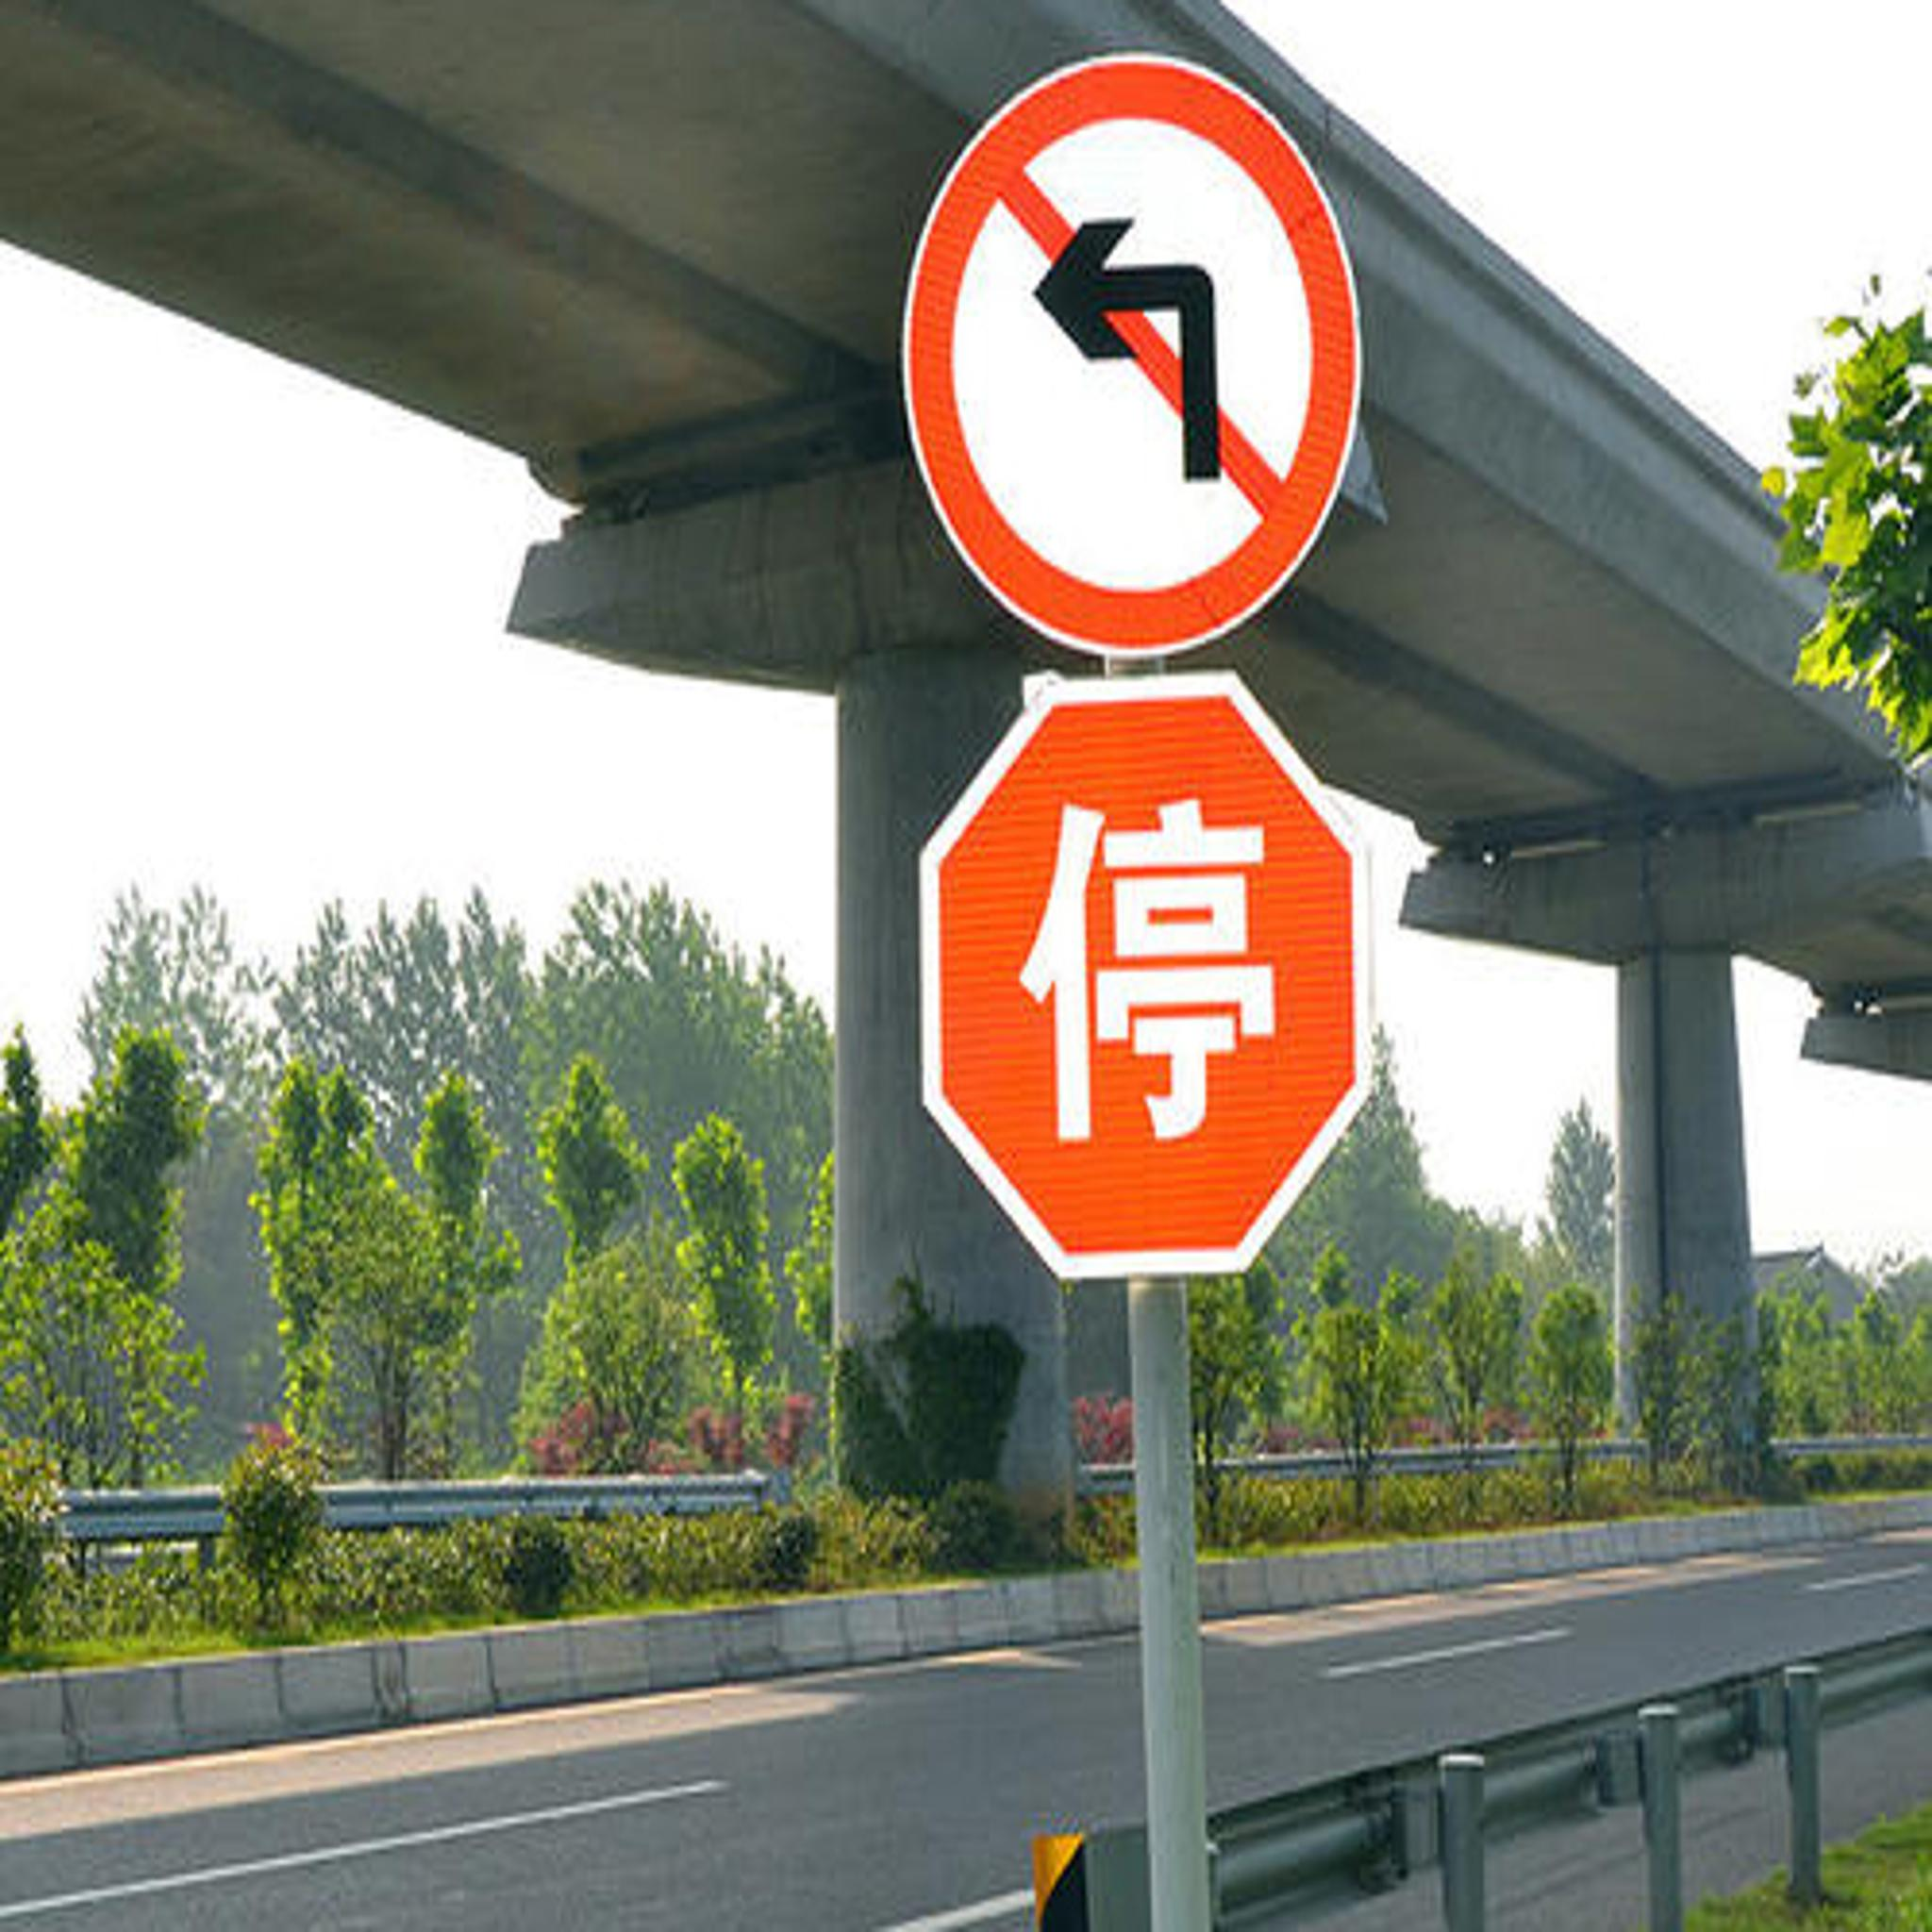p23: (904, 53, 1366, 655)
ps: (915, 674, 1375, 1283)
